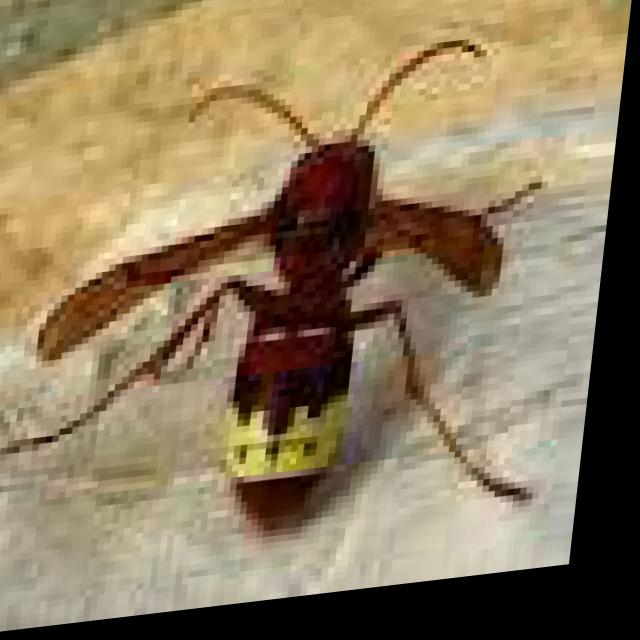Vespa Orientalis: (0, 17, 630, 604)
